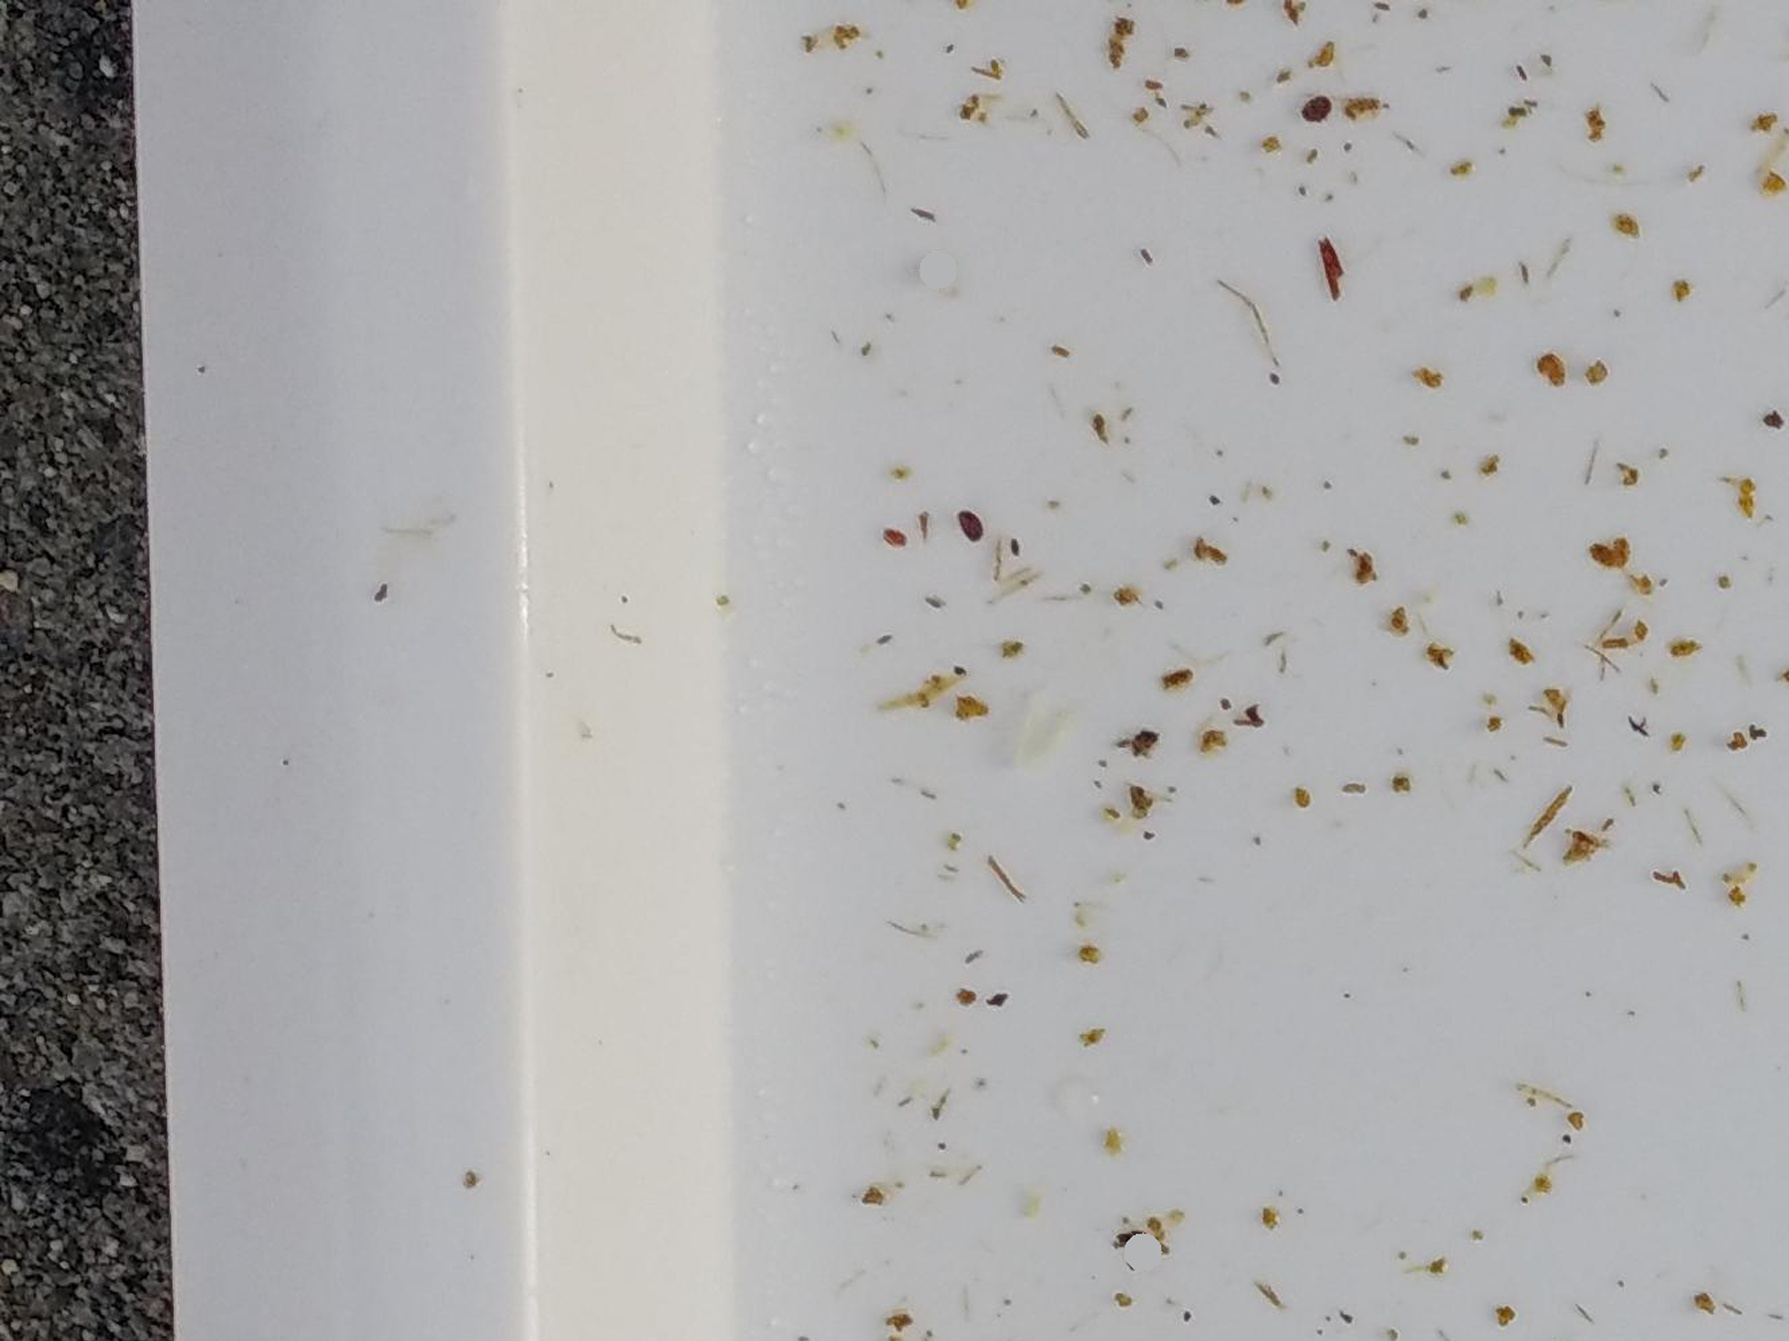Varroa: (956, 513, 983, 542), (1302, 92, 1326, 120)
